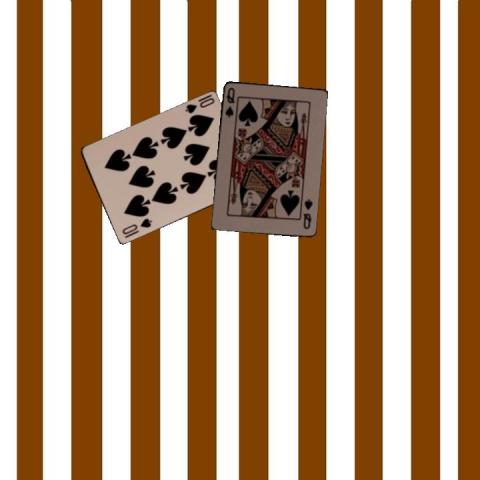10s: (119, 215, 153, 236), (182, 95, 216, 115)
Qs: (222, 84, 236, 119), (300, 196, 314, 230)
